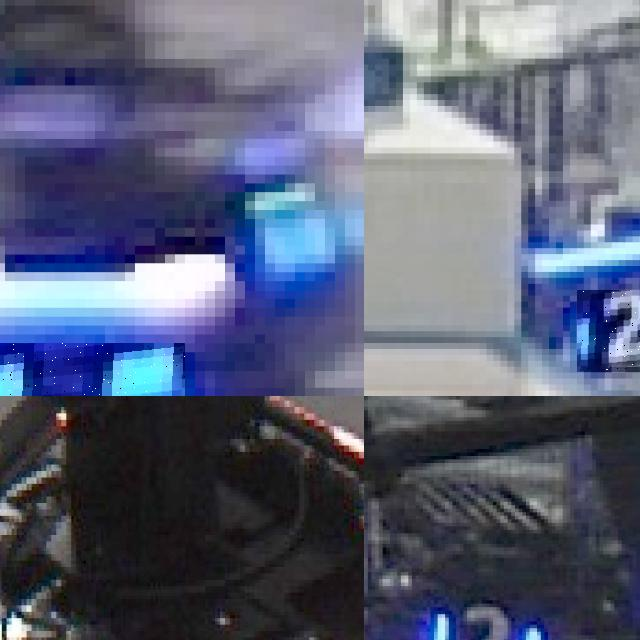B2: (576, 289, 640, 372), (426, 600, 540, 640)
B5: (0, 343, 185, 396)
